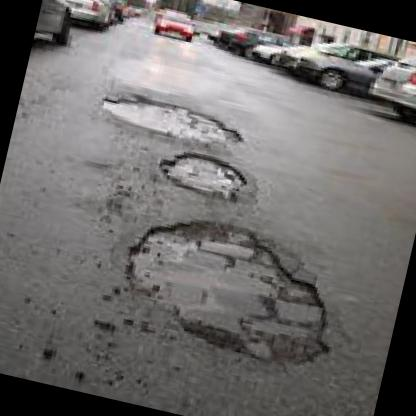pothole: (104, 197, 363, 384), (94, 85, 254, 154), (152, 146, 256, 206)
